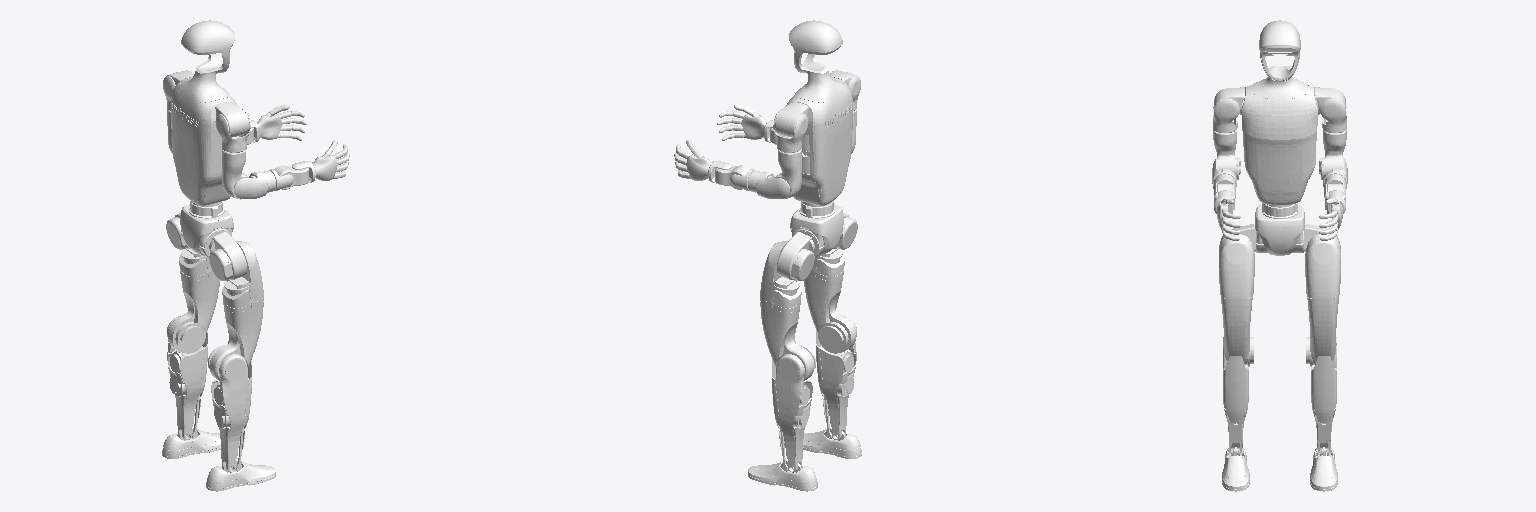
--- Facts derived from the render (not from the file) ---
Views: 3 orthographic renders of the robot side by side, from view 1: azimuth 30°, elevation 25°; view 2: azimuth 150°, elevation 25°; view 3: azimuth 270°, elevation 25°.
Model converted_robot with 61 links and 60 joints (29 revolute, 31 fixed), rooted at world, posed all joints at 0.
Links seen in each view (by area): view 1: torso_link, right_knee_link, left_knee_link, left_hip_yaw_link, right_hip_yaw_link, pelvis, right_hip_roll_link, right_hip_pitch_link, right_ankle_roll_link, left_wrist_yaw_link, right_wrist_yaw_link, left_ankle_roll_link (+5 smaller); view 2: torso_link, left_knee_link, right_knee_link, right_hip_yaw_link, left_hip_yaw_link, pelvis, left_hip_roll_link, left_hip_pitch_link, left_ankle_roll_link, right_wrist_yaw_link, left_wrist_yaw_link, right_ankle_roll_link (+5 smaller); view 3: torso_link, pelvis, left_hip_roll_link, right_hip_roll_link, left_knee_link, right_knee_link, left_hip_yaw_link, right_hip_yaw_link, left_ankle_roll_link, right_ankle_roll_link, left_shoulder_yaw_link, right_shoulder_yaw_link (+4 smaller).
Boxes of the visible links, box(x1,y1,x2,y2) form: torso_link: box(171, 20, 237, 205); right_knee_link: box(211, 354, 251, 472); left_knee_link: box(167, 316, 207, 439); left_hip_yaw_link: box(168, 270, 219, 353); right_hip_yaw_link: box(208, 297, 263, 380); pelvis: box(180, 201, 233, 257); right_hip_roll_link: box(222, 241, 263, 308); right_hip_pitch_link: box(209, 232, 246, 280); right_ankle_roll_link: box(206, 461, 275, 491); left_wrist_yaw_link: box(250, 105, 306, 142); right_wrist_yaw_link: box(292, 140, 349, 183); left_ankle_roll_link: box(162, 428, 220, 458); torso_link: box(786, 20, 852, 205); left_knee_link: box(772, 354, 812, 472); right_knee_link: box(816, 316, 856, 439); right_hip_yaw_link: box(804, 270, 855, 353); left_hip_yaw_link: box(760, 297, 815, 380); pelvis: box(790, 201, 843, 257); left_hip_roll_link: box(760, 241, 801, 308); left_hip_pitch_link: box(777, 232, 814, 280); left_ankle_roll_link: box(748, 461, 817, 491); right_wrist_yaw_link: box(717, 105, 773, 142); left_wrist_yaw_link: box(674, 140, 731, 183); right_ankle_roll_link: box(803, 428, 861, 458); torso_link: box(1240, 20, 1319, 204); pelvis: box(1255, 203, 1304, 255); left_hip_roll_link: box(1305, 234, 1340, 298); right_hip_roll_link: box(1219, 234, 1254, 298); left_knee_link: box(1311, 337, 1336, 456); right_knee_link: box(1223, 337, 1248, 456); left_hip_yaw_link: box(1306, 297, 1338, 366); right_hip_yaw_link: box(1221, 297, 1253, 366); left_ankle_roll_link: box(1310, 448, 1337, 491); right_ankle_roll_link: box(1222, 448, 1249, 491); left_shoulder_yaw_link: box(1319, 130, 1346, 179); right_shoulder_yaw_link: box(1213, 130, 1240, 179).
Bounding box of the posed robot: 0.4457 × 0.3631 × 1.32 m (x, y, z).
61 mesh visuals loaded from 36 distinct referenced files (36 binary STL).

URDF robot description (converted_robot):
<?xml version="1.0" ?>
<robot name="converted_robot">
   <!--generated with mjcf_urdf_simple_converter (https://github.com/Yasu31/mjcf_urdf_simple_converter)-->
   <link name="world">
      <inertial>
         <origin xyz="0.0 0.0 0.0" rpy="0.0 0.0 0.0"/>
         <mass value="0.0"/>
         <inertia ixx="0.0" iyy="0.0" izz="0.0" ixy="0" ixz="0" iyz="0"/>
      </inertial>
   </link>
   <link name="pelvis">
      <inertial>
         <origin xyz="0.0 0.0 -0.07605" rpy="0.0 -0.0007982959576051663 0.0"/>
         <mass value="3.813"/>
         <inertia ixx="0.010549" iyy="0.0093089" izz="0.0079184" ixy="0" ixz="0" iyz="0"/>
      </inertial>
      <visual name="pelvis">
         <origin xyz="-1.9529809540945105e-07 -9.171826830955297e-07 -0.07637656182566167" rpy="0.00015990361525077814 -1.3952456967558646e-09 8.72554274986241e-06"/>
         <geometry>
            <mesh filename="converted_pelvis.stl"/>
         </geometry>
         <material name="white"/>
      </visual>
      <visual name="pelvis_contour_link">
         <origin xyz="0.0006870395627471365 2.401819341082137e-05 -0.07859361570716923" rpy="1.5471959140405038 0.0016128668451760308 1.5713580804039602"/>
         <geometry>
            <mesh filename="converted_pelvis_contour_link.stl"/>
         </geometry>
         <material name="white"/>
      </visual>
      <visual name="pelvis_contour_link">
         <origin xyz="0.0006870395627471365 2.401819341082137e-05 -0.07859361570716923" rpy="1.5471959140405038 0.0016128668451760308 1.5713580804039602"/>
         <geometry>
            <mesh filename="converted_pelvis_contour_link.stl"/>
         </geometry>
         <material name="white"/>
      </visual>
   </link>
   <link name="floating_base_joint_jointbody">
      <inertial>
         <origin xyz="0.0 0.0 0.0" rpy="0.0 0.0 0.0"/>
         <mass value="0.001"/>
         <inertia ixx="1e-09" iyy="1e-09" izz="1e-09" ixy="0" ixz="0" iyz="0"/>
      </inertial>
   </link>
   <joint type="fixed" name="floating_base_joint">
      <parent link="world"/>
      <child link="floating_base_joint_jointbody"/>
      <origin xyz="0.0 0.0 0.793" rpy="0.0 0.0 0.0"/>
   </joint>
   <joint type="fixed" name="floating_base_joint_offset">
      <parent link="floating_base_joint_jointbody"/>
      <child link="pelvis"/>
      <origin xyz="-0.0 -0.0 -0.0" rpy="0.0 0.0 0.0"/>
   </joint>
   <link name="left_hip_pitch_link">
      <inertial>
         <origin xyz="0.002741 0.047791 -0.02606" rpy="0.5988174572601404 0.040081048741047454 0.07544498172237224"/>
         <mass value="1.35"/>
         <inertia ixx="0.00181517" iyy="0.00153422" izz="0.00116212" ixy="0" ixz="0" iyz="0"/>
      </inertial>
      <visual name="left_hip_pitch_link">
         <origin xyz="-0.0008665585378783539 0.04711095469219488 -0.02629613521299048" rpy="0.6379983986511478 -0.1264411694845986 0.09532492244952906"/>
         <geometry>
            <mesh filename="converted_left_hip_pitch_link.stl"/>
         </geometry>
         <material name="white"/>
      </visual>
      <visual name="left_hip_pitch_link">
         <origin xyz="-0.0008665585378783539 0.04711095469219488 -0.02629613521299048" rpy="0.6379983986511478 -0.1264411694845986 0.09532492244952906"/>
         <geometry>
            <mesh filename="converted_left_hip_pitch_link.stl"/>
         </geometry>
         <material name="white"/>
      </visual>
   </link>
   <link name="left_hip_pitch_joint_jointbody">
      <inertial>
         <origin xyz="0.0 0.0 0.0" rpy="0.0 0.0 0.0"/>
         <mass value="0.001"/>
         <inertia ixx="1e-09" iyy="1e-09" izz="1e-09" ixy="0" ixz="0" iyz="0"/>
      </inertial>
   </link>
   <joint type="revolute" name="left_hip_pitch_joint">
      <parent link="pelvis"/>
      <child link="left_hip_pitch_joint_jointbody"/>
      <origin xyz="0.0 0.064452 -0.1027" rpy="0.0 0.0 0.0"/>
      <axis xyz="0.0 1.0 0.0"/>
      <limit lower="-2.5307" upper="2.8798" effort="100" velocity="100"/>
   </joint>
   <joint type="fixed" name="left_hip_pitch_joint_offset">
      <parent link="left_hip_pitch_joint_jointbody"/>
      <child link="left_hip_pitch_link"/>
      <origin xyz="-0.0 -0.0 -0.0" rpy="0.0 0.0 0.0"/>
   </joint>
   <link name="left_hip_roll_link">
      <inertial>
         <origin xyz="0.029812 -0.001045 -0.087934" rpy="-0.018174938093325495 0.413728392569112 -0.08635897759109293"/>
         <mass value="1.52"/>
         <inertia ixx="0.00254986" iyy="0.00241169" izz="0.00148755" ixy="0" ixz="0" iyz="0"/>
      </inertial>
      <visual name="left_hip_roll_link">
         <origin xyz="0.03567396132978256 -0.00036361950676388214 -0.06771372727135536" rpy="-0.010588636566934557 0.35304791455611695 -0.01581117623964661"/>
         <geometry>
            <mesh filename="converted_left_hip_roll_link.stl"/>
         </geometry>
         <material name="white"/>
      </visual>
      <visual name="left_hip_roll_link">
         <origin xyz="0.03567396132978256 -0.00036361950676388214 -0.06771372727135536" rpy="-0.010588636566934557 0.35304791455611695 -0.01581117623964661"/>
         <geometry>
            <mesh filename="converted_left_hip_roll_link.stl"/>
         </geometry>
         <material name="white"/>
      </visual>
   </link>
   <link name="left_hip_roll_joint_jointbody">
      <inertial>
         <origin xyz="0.0 0.0 0.0" rpy="0.0 0.0 0.0"/>
         <mass value="0.001"/>
         <inertia ixx="1e-09" iyy="1e-09" izz="1e-09" ixy="0" ixz="0" iyz="0"/>
      </inertial>
   </link>
   <joint type="revolute" name="left_hip_roll_joint">
      <parent link="left_hip_pitch_link"/>
      <child link="left_hip_roll_joint_jointbody"/>
      <origin xyz="0.0 0.052 -0.030465" rpy="0.0 -0.17489998429394227 0.0"/>
      <axis xyz="1.0 0.0 0.0"/>
      <limit lower="-0.5236" upper="2.9671" effort="100" velocity="100"/>
   </joint>
   <joint type="fixed" name="left_hip_roll_joint_offset">
      <parent link="left_hip_roll_joint_jointbody"/>
      <child link="left_hip_roll_link"/>
      <origin xyz="-0.0 -0.0 -0.0" rpy="0.0 0.0 0.0"/>
   </joint>
   <link name="left_hip_yaw_link">
      <inertial>
         <origin xyz="-0.057709 -0.010981 -0.15078" rpy="0.5540907790916816 0.0305964976672084 1.8013748980475472"/>
         <mass value="1.702"/>
         <inertia ixx="0.00776166" iyy="0.00717575" izz="0.00160139" ixy="0" ixz="0" iyz="0"/>
      </inertial>
      <visual name="left_hip_yaw_link">
         <origin xyz="-0.030698236099282915 -0.0031575123714920315 -0.09263915858615535" rpy="0.4652267475865616 0.01573260394194187 1.632172512777883"/>
         <geometry>
            <mesh filename="converted_left_hip_yaw_link.stl"/>
         </geometry>
         <material name="white"/>
      </visual>
      <visual name="left_hip_yaw_link">
         <origin xyz="-0.030698236099282915 -0.0031575123714920315 -0.09263915858615535" rpy="0.4652267475865616 0.01573260394194187 1.632172512777883"/>
         <geometry>
            <mesh filename="converted_left_hip_yaw_link.stl"/>
         </geometry>
         <material name="white"/>
      </visual>
   </link>
   <link name="left_hip_yaw_joint_jointbody">
      <inertial>
         <origin xyz="0.0 0.0 0.0" rpy="0.0 0.0 0.0"/>
         <mass value="0.001"/>
         <inertia ixx="1e-09" iyy="1e-09" izz="1e-09" ixy="0" ixz="0" iyz="0"/>
      </inertial>
   </link>
   <joint type="revolute" name="left_hip_yaw_joint">
      <parent link="left_hip_roll_link"/>
      <child link="left_hip_yaw_joint_jointbody"/>
      <origin xyz="0.025001 0.0 -0.12412" rpy="0.0 0.0 0.0"/>
      <axis xyz="0.0 0.0 1.0"/>
      <limit lower="-2.7576" upper="2.7576" effort="100" velocity="100"/>
   </joint>
   <joint type="fixed" name="left_hip_yaw_joint_offset">
      <parent link="left_hip_yaw_joint_jointbody"/>
      <child link="left_hip_yaw_link"/>
      <origin xyz="-0.0 -0.0 -0.0" rpy="0.0 0.0 0.0"/>
   </joint>
   <link name="left_knee_link">
      <inertial>
         <origin xyz="0.005457 0.003964 -0.12074" rpy="-0.048519000764823184 0.054292689691372686 0.7832941703975453"/>
         <mass value="1.932"/>
         <inertia ixx="0.0113804" iyy="0.0112778" izz="0.00146458" ixy="0" ixz="0" iyz="0"/>
      </inertial>
      <visual name="left_knee_link">
         <origin xyz="0.01229041176367447 0.0027294407845290226 -0.12275210014016037" rpy="0.017322281158521413 0.0626182591539548 1.4189256886202024"/>
         <geometry>
            <mesh filename="converted_left_knee_link.stl"/>
         </geometry>
         <material name="white"/>
      </visual>
      <visual name="left_knee_link">
         <origin xyz="0.01229041176367447 0.0027294407845290226 -0.12275210014016037" rpy="0.017322281158521413 0.0626182591539548 1.4189256886202024"/>
         <geometry>
            <mesh filename="converted_left_knee_link.stl"/>
         </geometry>
         <material name="white"/>
      </visual>
   </link>
   <link name="left_knee_joint_jointbody">
      <inertial>
         <origin xyz="0.0 0.0 0.0" rpy="0.0 0.0 0.0"/>
         <mass value="0.001"/>
         <inertia ixx="1e-09" iyy="1e-09" izz="1e-09" ixy="0" ixz="0" iyz="0"/>
      </inertial>
   </link>
   <joint type="revolute" name="left_knee_joint">
      <parent link="left_hip_yaw_link"/>
      <child link="left_knee_joint_jointbody"/>
      <origin xyz="-0.078273 0.0021489 -0.17734" rpy="0.0 0.1748999842939425 0.0"/>
      <axis xyz="0.0 1.0 0.0"/>
      <limit lower="-0.087267" upper="2.8798" effort="100" velocity="100"/>
   </joint>
   <joint type="fixed" name="left_knee_joint_offset">
      <parent link="left_knee_joint_jointbody"/>
      <child link="left_knee_link"/>
      <origin xyz="-0.0 -0.0 -0.0" rpy="0.0 0.0 0.0"/>
   </joint>
   <link name="left_ankle_pitch_link">
      <inertial>
         <origin xyz="-0.007269 0.0 0.011137" rpy="1.098770384217672 0.0 1.5707963267948966"/>
         <mass value="0.074"/>
         <inertia ixx="1.89e-05" iyy="1.40805e-05" izz="6.9195e-06" ixy="0" ixz="0" iyz="0"/>
      </inertial>
      <visual name="left_ankle_pitch_link">
         <origin xyz="-0.004106198395375143 5.887730678462465e-05 -0.008573513698468344" rpy="0.5889383541831732 0.0 1.5707963267948966"/>
         <geometry>
            <mesh filename="converted_left_ankle_pitch_link.stl"/>
         </geometry>
         <material name="white"/>
      </visual>
      <visual name="left_ankle_pitch_link">
         <origin xyz="-0.004106198395375143 5.887730678462465e-05 -0.008573513698468344" rpy="0.5889383541831732 0.0 1.5707963267948966"/>
         <geometry>
            <mesh filename="converted_left_ankle_pitch_link.stl"/>
         </geometry>
         <material name="white"/>
      </visual>
   </link>
   <link name="left_ankle_pitch_joint_jointbody">
      <inertial>
         <origin xyz="0.0 0.0 0.0" rpy="0.0 0.0 0.0"/>
         <mass value="0.001"/>
         <inertia ixx="1e-09" iyy="1e-09" izz="1e-09" ixy="0" ixz="0" iyz="0"/>
      </inertial>
   </link>
   <joint type="revolute" name="left_ankle_pitch_joint">
      <parent link="left_knee_link"/>
      <child link="left_ankle_pitch_joint_jointbody"/>
      <origin xyz="0.0 -9.4445e-05 -0.30001" rpy="0.0 0.0 0.0"/>
      <axis xyz="0.0 1.0 0.0"/>
      <limit lower="-0.87267" upper="0.5236" effort="100" velocity="100"/>
   </joint>
   <joint type="fixed" name="left_ankle_pitch_joint_offset">
      <parent link="left_ankle_pitch_joint_jointbody"/>
      <child link="left_ankle_pitch_link"/>
      <origin xyz="-0.0 -0.0 -0.0" rpy="0.0 0.0 0.0"/>
   </joint>
   <link name="left_ankle_roll_link">
      <inertial>
         <origin xyz="0.026505 0.0 -0.016425" rpy="-3.1163585547559842 -1.5093660737206502 -0.025429175473726362"/>
         <mass value="0.608"/>
         <inertia ixx="0.00167218" iyy="0.0016161" izz="0.000217621" ixy="0" ixz="0" iyz="0"/>
      </inertial>
      <visual name="left_ankle_roll_link">
         <origin xyz="0.02646435804254272 7.351326310042785e-05 -0.014106210048355583" rpy="-3.119116147437704 -1.489394629219258 -0.02269621966958635"/>
         <geometry>
            <mesh filename="converted_left_ankle_roll_link.stl"/>
         </geometry>
         <material name="white"/>
      </visual>
   </link>
   <link name="left_ankle_roll_joint_jointbody">
      <inertial>
         <origin xyz="0.0 0.0 0.0" rpy="0.0 0.0 0.0"/>
         <mass value="0.001"/>
         <inertia ixx="1e-09" iyy="1e-09" izz="1e-09" ixy="0" ixz="0" iyz="0"/>
      </inertial>
   </link>
   <joint type="revolute" name="left_ankle_roll_joint">
      <parent link="left_ankle_pitch_link"/>
      <child link="left_ankle_roll_joint_jointbody"/>
      <origin xyz="0.0 0.0 -0.017558" rpy="0.0 0.0 0.0"/>
      <axis xyz="1.0 0.0 0.0"/>
      <limit lower="-0.2618" upper="0.2618" effort="100" velocity="100"/>
   </joint>
   <joint type="fixed" name="left_ankle_roll_joint_offset">
      <parent link="left_ankle_roll_joint_jointbody"/>
      <child link="left_ankle_roll_link"/>
      <origin xyz="-0.0 -0.0 -0.0" rpy="0.0 0.0 0.0"/>
   </joint>
   <link name="right_hip_pitch_link">
      <inertial>
         <origin xyz="0.002741 -0.047791 -0.02606" rpy="-0.5988174572601404 0.040081048741047454 -0.07544498172237224"/>
         <mass value="1.35"/>
         <inertia ixx="0.00181517" iyy="0.00153422" izz="0.00116212" ixy="0" ixz="0" iyz="0"/>
      </inertial>
      <visual name="right_hip_pitch_link">
         <origin xyz="-0.0008664703489512744 -0.04711005033357466 -0.026296623163099924" rpy="-0.6380379461504948 -0.1264811670174979 -0.09536771795197246"/>
         <geometry>
            <mesh filename="converted_right_hip_pitch_link.stl"/>
         </geometry>
         <material name="white"/>
      </visual>
      <visual name="right_hip_pitch_link">
         <origin xyz="-0.0008664703489512744 -0.04711005033357466 -0.026296623163099924" rpy="-0.6380379461504948 -0.1264811670174979 -0.09536771795197246"/>
         <geometry>
            <mesh filename="converted_right_hip_pitch_link.stl"/>
         </geometry>
         <material name="white"/>
      </visual>
   </link>
   <link name="right_hip_pitch_joint_jointbody">
      <inertial>
         <origin xyz="0.0 0.0 0.0" rpy="0.0 0.0 0.0"/>
         <mass value="0.001"/>
         <inertia ixx="1e-09" iyy="1e-09" izz="1e-09" ixy="0" ixz="0" iyz="0"/>
      </inertial>
   </link>
   <joint type="revolute" name="right_hip_pitch_joint">
      <parent link="pelvis"/>
      <child link="right_hip_pitch_joint_jointbody"/>
      <origin xyz="0.0 -0.064452 -0.1027" rpy="0.0 0.0 0.0"/>
      <axis xyz="0.0 1.0 0.0"/>
      <limit lower="-2.5307" upper="2.8798" effort="100" velocity="100"/>
   </joint>
   <joint type="fixed" name="right_hip_pitch_joint_offset">
      <parent link="right_hip_pitch_joint_jointbody"/>
      <child link="right_hip_pitch_link"/>
      <origin xyz="-0.0 -0.0 -0.0" rpy="0.0 0.0 0.0"/>
   </joint>
   <link name="right_hip_roll_link">
      <inertial>
         <origin xyz="0.029812 0.001045 -0.087934" rpy="0.018174938093325495 0.413728392569112 0.08635897759109293"/>
         <mass value="1.52"/>
         <inertia ixx="0.00254986" iyy="0.00241169" izz="0.00148755" ixy="0" ixz="0" iyz="0"/>
      </inertial>
      <visual name="right_hip_roll_link">
         <origin xyz="0.03567378883256972 0.0003616971847909951 -0.06771295458931689" rpy="0.01044591660946419 0.35305430937046367 0.015384555950420497"/>
         <geometry>
            <mesh filename="converted_right_hip_roll_link.stl"/>
         </geometry>
         <material name="white"/>
      </visual>
      <visual name="right_hip_roll_link">
         <origin xyz="0.03567378883256972 0.0003616971847909951 -0.06771295458931689" rpy="0.01044591660946419 0.35305430937046367 0.015384555950420497"/>
         <geometry>
            <mesh filename="converted_right_hip_roll_link.stl"/>
         </geometry>
         <material name="white"/>
      </visual>
   </link>
   <link name="right_hip_roll_joint_jointbody">
      <inertial>
         <origin xyz="0.0 0.0 0.0" rpy="0.0 0.0 0.0"/>
         <mass value="0.001"/>
         <inertia ixx="1e-09" iyy="1e-09" izz="1e-09" ixy="0" ixz="0" iyz="0"/>
      </inertial>
   </link>
   <joint type="revolute" name="right_hip_roll_joint">
      <parent link="right_hip_pitch_link"/>
      <child link="right_hip_roll_joint_jointbody"/>
      <origin xyz="0.0 -0.052 -0.030465" rpy="0.0 -0.17489998429394227 0.0"/>
      <axis xyz="1.0 0.0 0.0"/>
      <limit lower="-2.9671" upper="0.5236" effort="100" velocity="100"/>
   </joint>
   <joint type="fixed" name="right_hip_roll_joint_offset">
      <parent link="right_hip_roll_joint_jointbody"/>
      <child link="right_hip_roll_link"/>
      <origin xyz="-0.0 -0.0 -0.0" rpy="0.0 0.0 0.0"/>
   </joint>
   <link name="right_hip_yaw_link">
      <inertial>
         <origin xyz="-0.057709 0.010981 -0.15078" rpy="0.5540907790916816 -0.0305964976672084 1.3402177555422459"/>
         <mass value="1.702"/>
         <inertia ixx="0.00776166" iyy="0.00717575" izz="0.00160139" ixy="0" ixz="0" iyz="0"/>
      </inertial>
      <visual name="right_hip_yaw_link">
         <origin xyz="-0.030699656369028997 0.003158722541324976 -0.09263954567921404" rpy="0.465224825435285 -0.01567645225665637 1.5093289342853118"/>
         <geometry>
            <mesh filename="converted_right_hip_yaw_link.stl"/>
         </geometry>
         <material name="white"/>
      </visual>
      <visual name="right_hip_yaw_link">
         <origin xyz="-0.030699656369028997 0.003158722541324976 -0.09263954567921404" rpy="0.465224825435285 -0.01567645225665637 1.5093289342853118"/>
         <geometry>
            <mesh filename="converted_right_hip_yaw_link.stl"/>
         </geometry>
         <material name="white"/>
      </visual>
   </link>
   <link name="right_hip_yaw_joint_jointbody">
      <inertial>
         <origin xyz="0.0 0.0 0.0" rpy="0.0 0.0 0.0"/>
         <mass value="0.001"/>
         <inertia ixx="1e-09" iyy="1e-09" izz="1e-09" ixy="0" ixz="0" iyz="0"/>
      </inertial>
   </link>
   <joint type="revolute" name="right_hip_yaw_joint">
      <parent link="right_hip_roll_link"/>
      <child link="right_hip_yaw_joint_jointbody"/>
      <origin xyz="0.025001 0.0 -0.12412" rpy="0.0 0.0 0.0"/>
      <axis xyz="0.0 0.0 1.0"/>
      <limit lower="-2.7576" upper="2.7576" effort="100" velocity="100"/>
   </joint>
   <joint type="fixed" name="right_hip_yaw_joint_offset">
      <parent link="right_hip_yaw_joint_jointbody"/>
      <child link="right_hip_yaw_link"/>
      <origin xyz="-0.0 -0.0 -0.0" rpy="0.0 0.0 0.0"/>
   </joint>
   <link name="right_knee_link">
      <inertial>
         <origin xyz="0.005457 -0.003964 -0.12074" rpy="0.05497078739990324 0.047883485238203294 -0.7831774075963955"/>
         <mass value="1.932"/>
         <inertia ixx="0.011374" iyy="0.0112843" izz="0.00146452" ixy="0" ixz="0" iyz="0"/>
      </inertial>
      <visual name="right_knee_link">
         <origin xyz="0.012290840839311904 -0.0027284185571872224 -0.12275462830238623" rpy="0.01731356693980557 -0.06260061038118958 1.722781525449863"/>
         <geometry>
            <mesh filename="converted_right_knee_link.stl"/>
         </geometry>
         <material name="white"/>
      </visual>
      <visual name="right_knee_link">
         <origin xyz="0.012290840839311904 -0.0027284185571872224 -0.12275462830238623" rpy="0.01731356693980557 -0.06260061038118958 1.722781525449863"/>
         <geometry>
            <mesh filename="converted_right_knee_link.stl"/>
         </geometry>
         <material name="white"/>
      </visual>
   </link>
   <link name="right_knee_joint_jointbody">
      <inertial>
         <origin xyz="0.0 0.0 0.0" rpy="0.0 0.0 0.0"/>
         <mass value="0.001"/>
         <inertia ixx="1e-09" iyy="1e-09" izz="1e-09" ixy="0" ixz="0" iyz="0"/>
      </inertial>
   </link>
   <joint type="revolute" name="right_knee_joint">
      <parent link="right_hip_yaw_link"/>
      <child link="right_knee_joint_jointbody"/>
      <origin xyz="-0.078273 -0.0021489 -0.17734" rpy="0.0 0.1748999842939425 0.0"/>
      <axis xyz="0.0 1.0 0.0"/>
      <limit lower="-0.087267" upper="2.8798" effort="100" velocity="100"/>
   </joint>
   <joint type="fixed" name="right_knee_joint_offset">
      <parent link="right_knee_joint_jointbody"/>
      <child link="right_knee_link"/>
      <origin xyz="-0.0 -0.0 -0.0" rpy="0.0 0.0 0.0"/>
   </joint>
   <link name="right_ankle_pitch_link">
      <inertial>
         <origin xyz="-0.007269 0.0 0.011137" rpy="1.098770384217672 0.0 1.5707963267948966"/>
         <mass value="0.074"/>
         <inertia ixx="1.89e-05" iyy="1.40805e-05" izz="6.9195e-06" ixy="0" ixz="0" iyz="0"/>
      </inertial>
      <visual name="right_ankle_pitch_link">
         <origin xyz="-0.0041065949955294695 -5.9077733540970835e-05 -0.00857303102905033" rpy="0.5888330459747148 0.0 1.5707963267948966"/>
         <geometry>
            <mesh filename="converted_right_ankle_pitch_link.stl"/>
         </geometry>
         <material name="white"/>
      </visual>
      <visual name="right_ankle_pitch_link">
         <origin xyz="-0.0041065949955294695 -5.9077733540970835e-05 -0.00857303102905033" rpy="0.5888330459747148 0.0 1.5707963267948966"/>
         <geometry>
            <mesh filename="converted_right_ankle_pitch_link.stl"/>
         </geometry>
         <material name="white"/>
      </visual>
   </link>
   <link name="right_ankle_pitch_joint_jointbody">
      <inertial>
         <origin xyz="0.0 0.0 0.0" rpy="0.0 0.0 0.0"/>
         <mass value="0.001"/>
         <inertia ixx="1e-09" iyy="1e-09" izz="1e-09" ixy="0" ixz="0" iyz="0"/>
      </inertial>
   </link>
   <joint type="revolute" name="right_ankle_pitch_joint">
      <parent link="right_knee_link"/>
      <child link="right_ankle_pitch_joint_jointbody"/>
      <origin xyz="0.0 9.4445e-05 -0.30001" rpy="0.0 0.0 0.0"/>
      <axis xyz="0.0 1.0 0.0"/>
      <limit lower="-0.87267" upper="0.5236" effort="100" velocity="100"/>
   </joint>
   <joint type="fixed" name="right_ankle_pitch_joint_offset">
      <parent link="right_ankle_pitch_joint_jointbody"/>
      <child link="right_ankle_pitch_link"/>
      <origin xyz="-0.0 -0.0 -0.0" rpy="0.0 0.0 0.0"/>
   </joint>
   <link name="right_ankle_roll_link">
      <inertial>
         <origin xyz="0.026505 0.0 -0.016425" rpy="3.1163585547559842 -1.5093660737206502 0.025429175473726362"/>
         <mass value="0.608"/>
         <inertia ixx="0.00167218" iyy="0.0016161" izz="0.000217621" ixy="0" ixz="0" iyz="0"/>
      </inertial>
      <visual name="right_ankle_roll_link">
         <origin xyz="0.026469481697172777 -7.266444317600382e-05 -0.014106435744604889" rpy="3.1197956347207203 -1.4893919119936694 0.02204653443684479"/>
         <geometry>
            <mesh filename="converted_right_ankle_roll_link.stl"/>
         </geometry>
         <material name="white"/>
      </visual>
   </link>
   <link name="right_ankle_roll_joint_jointbody">
      <inertial>
         <origin xyz="0.0 0.0 0.0" rpy="0.0 0.0 0.0"/>
         <mass value="0.001"/>
         <inertia ixx="1e-09" iyy="1e-09" izz="1e-09" ixy="0" ixz="0" iyz="0"/>
      </inertial>
   </link>
   <joint type="revolute" name="right_ankle_roll_joint">
      <parent link="right_ankle_pitch_link"/>
      <child link="right_ankle_roll_joint_jointbody"/>
      <origin xyz="0.0 0.0 -0.017558" rpy="0.0 0.0 0.0"/>
      <axis xyz="1.0 0.0 0.0"/>
      <limit lower="-0.2618" upper="0.2618" effort="100" velocity="100"/>
   </joint>
   <joint type="fixed" name="right_ankle_roll_joint_offset">
      <parent link="right_ankle_roll_joint_jointbody"/>
      <child link="right_ankle_roll_link"/>
      <origin xyz="-0.0 -0.0 -0.0" rpy="0.0 0.0 0.0"/>
   </joint>
   <link name="waist_yaw_link">
      <inertial>
         <origin xyz="0.003964 0.0 0.018769" rpy="0.1027354623934773 -1.3596559581431018 3.1043953214876154"/>
         <mass value="0.244"/>
         <inertia ixx="0.000158561" iyy="0.000124229" izz="9.67669e-05" ixy="0" ixz="0" iyz="0"/>
      </inertial>
      <visual name="waist_yaw_link">
         <origin xyz="0.004643086659573277 3.9417883471413433e-07 0.017921369690912063" rpy="8.625346510360288e-06 -1.3987764839882448 -3.141395581204842"/>
         <geometry>
            <mesh filename="converted_waist_yaw_link.stl"/>
         </geometry>
         <material name="white"/>
      </visual>
   </link>
   <link name="waist_yaw_joint_jointbody">
      <inertial>
         <origin xyz="0.0 0.0 0.0" rpy="0.0 0.0 0.0"/>
         <mass value="0.001"/>
         <inertia ixx="1e-09" iyy="1e-09" izz="1e-09" ixy="0" ixz="0" iyz="0"/>
      </inertial>
   </link>
   <joint type="revolute" name="waist_yaw_joint">
      <parent link="pelvis"/>
      <child link="waist_yaw_joint_jointbody"/>
      <origin xyz="0.0 0.0 0.0" rpy="0.0 0.0 0.0"/>
      <axis xyz="0.0 0.0 1.0"/>
      <limit lower="-2.618" upper="2.618" effort="100" velocity="100"/>
   </joint>
   <joint type="fixed" name="waist_yaw_joint_offset">
      <parent link="waist_yaw_joint_jointbody"/>
      <child link="waist_yaw_link"/>
      <origin xyz="-0.0 -0.0 -0.0" rpy="0.0 0.0 0.0"/>
   </joint>
   <link name="waist_roll_link">
      <inertial>
         <origin xyz="0.0 -0.000236 0.010111" rpy="0.04098686958331075 0.0 0.0"/>
         <mass value="0.047"/>
         <inertia ixx="7.515e-06" iyy="6.40206e-06" izz="3.98394e-06" ixy="0" ixz="0" iyz="0"/>
      </inertial>
      <visual name="waist_roll_link">
         <origin xyz="-4.478938102644661e-07 -5.375318902658795e-07 0.0075003359781740985" rpy="0.0 0.0 0.0"/>
         <geometry>
            <mesh filename="converted_waist_roll_link.stl"/>
         </geometry>
         <material name="white"/>
      </visual>
   </link>
   <link name="waist_roll_joint_jointbody">
      <inertial>
         <origin xyz="0.0 0.0 0.0" rpy="0.0 0.0 0.0"/>
         <mass value="0.001"/>
         <inertia ixx="1e-09" iyy="1e-09" izz="1e-09" ixy="0" ixz="0" iyz="0"/>
      </inertial>
   </link>
   <joint type="revolute" name="waist_roll_joint">
      <parent link="waist_yaw_link"/>
      <child link="waist_roll_joint_jointbody"/>
      <origin xyz="-0.0039635 0.0 0.035" rpy="0.0 0.0 0.0"/>
      <axis xyz="1.0 0.0 0.0"/>
      <limit lower="-0.52" upper="0.52" effort="100" velocity="100"/>
   </joint>
   <joint type="fixed" name="waist_roll_joint_offset">
      <parent link="waist_roll_joint_jointbody"/>
      <child link="waist_roll_link"/>
      <origin xyz="-0.0 -0.0 -0.0" rpy="0.0 0.0 0.0"/>
   </joint>
   <link name="torso_link">
      <inertial>
         <origin xyz="0.00331658 0.000261533 0.179856" rpy="0.0006167859925641735 0.035983524154997504 -0.007544222650426457"/>
         <mass value="9.598"/>
         <inertia ixx="0.12407" iyy="0.111951" izz="0.0325382" ixy="0" ixz="0" iyz="0"/>
      </inertial>
      <visual name="torso_link">
         <origin xyz="0.004883773990760545 0.002122432415161523 0.13780783433329688" rpy="0.004107860169586809 0.008940554633317 0.004279752321659944"/>
         <geometry>
            <mesh filename="converted_torso_link.stl"/>
         </geometry>
         <material name="white"/>
      </visual>
      <visual name="torso_link">
         <origin xyz="0.004883773990760545 0.002122432415161523 0.13780783433329688" rpy="0.004107860169586809 0.008940554633317 0.004279752321659944"/>
         <geometry>
            <mesh filename="converted_torso_link.stl"/>
         </geometry>
         <material name="white"/>
      </visual>
      <visual name="logo_link">
         <origin xyz="0.0030190916936811904 0.0011127782956188072 0.21746039917874727" rpy="3.030856524612828 -1.566921699321284 0.041169313305835065"/>
         <geometry>
            <mesh filename="converted_logo_link.stl"/>
         </geometry>
         <material name="white"/>
      </visual>
      <visual name="logo_link">
         <origin xyz="0.0030190916936811904 0.0011127782956188072 0.21746039917874727" rpy="3.030856524612828 -1.566921699321284 0.041169313305835065"/>
         <geometry>
            <mesh filename="converted_logo_link.stl"/>
         </geometry>
         <material name="white"/>
      </visual>
      <visual name="head_link">
         <origin xyz="0.007650942311808313 2.4814250502793286e-05 0.3751317963124549" rpy="2.916442025267819e-05 0.04559163418327694 0.00010977219856073105"/>
         <geometry>
            <mesh filename="converted_head_link.stl"/>
         </geometry>
         <material name="white"/>
      </visual>
      <visual name="head_link">
         <origin xyz="0.007650942311808313 2.4814250502793286e-05 0.3751317963124549" rpy="2.916442025267819e-05 0.04559163418327694 0.00010977219856073105"/>
         <geometry>
            <mesh filename="converted_head_link.stl"/>
         </geometry>
         <material name="white"/>
      </visual>
      <visual name="waist_support_link">
         <origin xyz="0.003226570964462729 8.064506001391946e-05 -0.02242432014032736" rpy="-1.6369288934604698 -1.5697770264885236 -3.076962490639492"/>
         <geometry>
            <mesh filename="converted_waist_support_link.stl"/>
         </geometry>
         <material name="white"/>
      </visual>
      <visual name="waist_support_link">
         <origin xyz="0.003226570964462729 8.064506001391946e-05 -0.02242432014032736" rpy="-1.6369288934604698 -1.5697770264885236 -3.076962490639492"/>
         <geometry>
            <mesh filename="converted_waist_support_link.stl"/>
         </geometry>
         <material name="white"/>
      </visual>
   </link>
   <link name="waist_pitch_joint_jointbody">
      <inertial>
         <origin xyz="0.0 0.0 0.0" rpy="0.0 0.0 0.0"/>
         <mass value="0.001"/>
         <inertia ixx="1e-09" iyy="1e-09" izz="1e-09" ixy="0" ixz="0" iyz="0"/>
      </inertial>
   </link>
   <joint type="revolute" name="waist_pitch_joint">
      <parent link="waist_roll_link"/>
      <child link="waist_pitch_joint_jointbody"/>
      <origin xyz="0.0 0.0 0.019" rpy="0.0 0.0 0.0"/>
      <axis xyz="0.0 1.0 0.0"/>
      <limit lower="-0.52" upper="0.52" effort="100" velocity="100"/>
   </joint>
   <joint type="fixed" name="waist_pitch_joint_offset">
      <parent link="waist_pitch_joint_jointbody"/>
      <child link="torso_link"/>
      <origin xyz="-0.0 -0.0 -0.0" rpy="0.0 0.0 0.0"/>
   </joint>
   <link name="left_shoulder_pitch_link">
      <inertial>
         <origin xyz="0.0 0.035892 -0.011628" rpy="-0.49834883517368966 -0.46079162371774673 1.732072902331688"/>
         <mass value="0.718"/>
         <inertia ixx="0.000465864" iyy="0.000432842" izz="0.000406394" ixy="0" ixz="0" iyz="0"/>
      </inertial>
      <visual name="left_shoulder_pitch_link">
         <origin xyz="-2.524160950152245e-05 0.03454218177570185 -0.008909194000553549" rpy="0.02893606614591482 -0.5899336882005926 1.504020067492158"/>
         <geometry>
            <mesh filename="converted_left_shoulder_pitch_link.stl"/>
         </geometry>
         <material name="white"/>
      </visual>
   </link>
   <link name="left_shoulder_pitch_joint_jointbody">
      <inertial>
         <origin xyz="0.0 0.0 0.0" rpy="0.0 0.0 0.0"/>
         <mass value="0.001"/>
         <inertia ixx="1e-09" iyy="1e-09" izz="1e-09" ixy="0" ixz="0" iyz="0"/>
      </inertial>
   </link>
   <joint type="revolute" name="left_shoulder_pitch_joint">
      <parent link="torso_link"/>
      <child link="left_shoulder_pitch_joint_jointbody"/>
      <origin xyz="0.0039563 0.10022 0.23778" rpy="0.2793090626390551 5.4948898537077184e-05 -0.00019158997789023302"/>
      <axis xyz="0.0 1.0 0.0"/>
      <limit lower="-3.0892" upper="2.6704" effort="100" velocity="100"/>
   </joint>
   <joint type="fixed" name="left_shoulder_pitch_joint_offset">
      <parent link="left_shoulder_pitch_joint_jointbody"/>
      <child link="left_shoulder_pitch_link"/>
      <origin xyz="-0.0 -0.0 -0.0" rpy="0.0 0.0 0.0"/>
   </joint>
   <link name="left_shoulder_roll_link">
      <inertial>
         <origin xyz="-0.000227 0.00727 -0.063243" rpy="-0.03765901158544349 0.018004551792828227 1.5865094247978933"/>
         <mass value="0.643"/>
         <inertia ixx="0.000691311" iyy="0.000618011" izz="0.000388977" ixy="0" ixz="0" iyz="0"/>
      </inertial>
      <visual name="left_shoulder_roll_link">
         <origin xyz="3.078866230346007e-05 0.007747256915819465 -0.03750622953852636" rpy="0.0034739091753315243 -0.0794133828154262 1.5701498870966804"/>
         <geometry>
            <mesh filename="converted_left_shoulder_roll_link.stl"/>
         </geometry>
         <material name="white"/>
      </visual>
   </link>
   <link name="left_shoulder_roll_joint_jointbody">
      <inertial>
         <origin xyz="0.0 0.0 0.0" rpy="0.0 0.0 0.0"/>
         <mass value="0.001"/>
         <inertia ixx="1e-09" iyy="1e-09" izz="1e-09" ixy="0" ixz="0" iyz="0"/>
      </inertial>
   </link>
   <joint type="revolute" name="left_shoulder_roll_joint">
      <parent link="left_shoulder_pitch_link"/>
      <child link="left_shoulder_roll_joint_jointbody"/>
      <origin xyz="0.0 0.038 -0.013831" rpy="-0.2792505189613739 0.0 0.0"/>
      <axis xyz="1.0 0.0 0.0"/>
      <limit lower="-1.5882" upper="2.2515" effort="100" velocity="100"/>
   </joint>
   <joint type="fixed" name="left_shoulder_roll_joint_offset">
      <parent link="left_shoulder_roll_joint_jointbody"/>
      <child link="left_shoulder_roll_link"/>
      <origin xyz="-0.0 -0.0 -0.0" rpy="0.0 0.0 0.0"/>
   </joint>
   <link name="left_shoulder_yaw_link">
      <inertial>
         <origin xyz="0.010773 -0.002949 -0.072009" rpy="-0.2340491396282709 0.03511332089790531 1.5243028610703762"/>
         <mass value="0.734"/>
         <inertia ixx="0.00106187" iyy="0.00103217" izz="0.000400661" ixy="0" ixz="0" iyz="0"/>
      </inertial>
      <visual name="left_shoulder_yaw_link">
         <origin xyz="0.008049665594003904 -0.00420180564637434 -0.048209927243695244" rpy="-0.23785394371832946 0.13198198726331967 1.6702463147886015"/>
         <geometry>
            <mesh filename="converted_left_shoulder_yaw_link.stl"/>
         </geometry>
         <material name="white"/>
      </visual>
      <visual name="left_shoulder_yaw_link">
         <origin xyz="0.008049665594003904 -0.00420180564637434 -0.048209927243695244" rpy="-0.23785394371832946 0.13198198726331967 1.6702463147886015"/>
         <geometry>
            <mesh filename="converted_left_shoulder_yaw_link.stl"/>
         </geometry>
         <material name="white"/>
      </visual>
   </link>
   <link name="left_shoulder_yaw_joint_jointbody">
      <inertial>
         <origin xyz="0.0 0.0 0.0" rpy="0.0 0.0 0.0"/>
         <mass value="0.001"/>
         <inertia ixx="1e-09" iyy="1e-09" izz="1e-09" ixy="0" ixz="0" iyz="0"/>
      </inertial>
   </link>
   <joint type="revolute" name="left_shoulder_yaw_joint">
      <parent link="left_shoulder_roll_link"/>
      <child link="left_shoulder_yaw_joint_jointbody"/>
      <origin xyz="0.0 0.00624 -0.1032" rpy="0.0 0.0 0.0"/>
      <axis xyz="0.0 0.0 1.0"/>
      <limit lower="-2.618" upper="2.618" effort="100" velocity="100"/>
   </joint>
   <joint type="fixed" name="left_shoulder_yaw_joint_offset">
      <parent link="left_shoulder_yaw_joint_jointbody"/>
      <child link="left_shoulder_yaw_link"/>
      <origin xyz="-0.0 -0.0 -0.0" rpy="0.0 0.0 0.0"/>
   </joint>
   <link name="left_elbow_link">
      <inertial>
         <origin xyz="0.064956 0.004454 -0.010062" rpy="1.6830188159730721 -0.07256707188746447 1.1621215745061526"/>
         <mass value="0.6"/>
         <inertia ixx="0.000443035" iyy="0.000421612" izz="0.000259353" ixy="0" ixz="0" iyz="0"/>
      </inertial>
      <visual name="left_elbow_link">
         <origin xyz="0.053574244613676256 0.008583805643290808 -0.008537761350154273" rpy="1.6847179506028167 -0.05821775620593406 1.2367484910384527"/>
         <geometry>
            <mesh filename="converted_left_elbow_link.stl"/>
         </geometry>
         <material name="white"/>
      </visual>
      <visual name="left_elbow_link">
         <origin xyz="0.053574244613676256 0.008583805643290808 -0.008537761350154273" rpy="1.6847179506028167 -0.05821775620593406 1.2367484910384527"/>
         <geometry>
            <mesh filename="converted_left_elbow_link.stl"/>
         </geometry>
         <material name="white"/>
      </visual>
   </link>
   <link name="left_elbow_joint_jointbody">
      <inertial>
         <origin xyz="0.0 0.0 0.0" rpy="0.0 0.0 0.0"/>
         <mass value="0.001"/>
         <inertia ixx="1e-09" iyy="1e-09" izz="1e-09" ixy="0" ixz="0" iyz="0"/>
      </inertial>
   </link>
   <joint type="revolute" name="left_elbow_joint">
      <parent link="left_shoulder_yaw_link"/>
      <child link="left_elbow_joint_jointbody"/>
      <origin xyz="0.015783 0.0 -0.080518" rpy="0.0 0.0 0.0"/>
      <axis xyz="0.0 1.0 0.0"/>
      <limit lower="-1.0472" upper="2.0944" effort="100" velocity="100"/>
   </joint>
   <joint type="fixed" name="left_elbow_joint_offset">
      <parent link="left_elbow_joint_jointbody"/>
      <child link="left_elbow_link"/>
      <origin xyz="-0.0 -0.0 -0.0" rpy="0.0 0.0 0.0"/>
   </joint>
   <link name="left_wrist_roll_link">
      <inertial>
         <origin xyz="0.0171394 0.000537591 4.8864e-07" rpy="1.5457027398981822 -1.5697814832562638 -0.30387098421845293"/>
         <mass value="0.085445"/>
         <inertia ixx="5.48211e-05" iyy="4.96646e-05" izz="3.57798e-05" ixy="0" ixz="0" iyz="0"/>
      </inertial>
      <visual name="left_wrist_roll_link">
         <origin xyz="0.018657984394854582 5.9793423268075494e-06 -1.5958652824487767e-07" rpy="1.8145436634277998 -1.570603686945106 -0.2762879138730202"/>
         <geometry>
            <mesh filename="converted_left_wrist_roll_link.stl"/>
         </geometry>
         <material name="white"/>
      </visual>
      <visual name="left_wrist_roll_link">
         <origin xyz="0.018657984394854582 5.9793423268075494e-06 -1.5958652824487767e-07" rpy="1.8145436634277998 -1.570603686945106 -0.2762879138730202"/>
         <geometry>
            <mesh filename="converted_left_wrist_roll_link.stl"/>
         </geometry>
         <material name="white"/>
      </visual>
   </link>
   <link name="left_wrist_roll_joint_jointbody">
      <inertial>
         <origin xyz="0.0 0.0 0.0" rpy="0.0 0.0 0.0"/>
         <mass value="0.001"/>
         <inertia ixx="1e-09" iyy="1e-09" izz="1e-09" ixy="0" ixz="0" iyz="0"/>
      </inertial>
   </link>
   <joint type="revolute" name="left_wrist_roll_joint">
      <parent link="left_elbow_link"/>
      <child link="left_wrist_roll_joint_jointbody"/>
      <origin xyz="0.1 0.00188791 -0.01" rpy="0.0 0.0 0.0"/>
      <axis xyz="1.0 0.0 0.0"/>
      <limit lower="-1.97222" upper="1.97222" effort="100" velocity="100"/>
   </joint>
   <joint type="fixed" name="left_wrist_roll_joint_offset">
      <parent link="left_wrist_roll_joint_jointbody"/>
      <child link="left_wrist_roll_link"/>
      <origin xyz="-0.0 -0.0 -0.0" rpy="0.0 0.0 0.0"/>
   </joint>
   <link name="left_wrist_pitch_link">
      <inertial>
         <origin xyz="0.0229999 -0.00111685 -0.00111658" rpy="1.636448704066341 -0.7821401091177318 1.571080137027126"/>
         <mass value="0.48405"/>
         <inertia ixx="0.000430353" iyy="0.000429873" izz="0.000164648" ixy="0" ixz="0" iyz="0"/>
      </inertial>
      <visual name="left_wrist_pitch_link">
         <origin xyz="0.02300019707036519 -0.0005173613094355222 -0.000518381947122207" rpy="-1.6008824834192854 -0.8108809357715906 -1.5282434388651223"/>
         <geometry>
            <mesh filename="converted_left_wrist_pitch_link.stl"/>
         </geometry>
         <material name="white"/>
      </visual>
      <visual name="left_wrist_pitch_link">
         <origin xyz="0.02300019707036519 -0.0005173613094355222 -0.000518381947122207" rpy="-1.6008824834192854 -0.8108809357715906 -1.5282434388651223"/>
         <geometry>
            <mesh filename="converted_left_wrist_pitch_link.stl"/>
         </geometry>
         <material name="white"/>
      </visual>
   </link>
   <link name="left_wrist_pitch_joint_jointbody">
      <inertial>
         <origin xyz="0.0 0.0 0.0" rpy="0.0 0.0 0.0"/>
         <mass value="0.001"/>
         <inertia ixx="1e-09" iyy="1e-09" izz="1e-09" ixy="0" ixz="0" iyz="0"/>
      </inertial>
   </link>
   <joint type="revolute" name="left_wrist_pitch_joint">
      <parent link="left_wrist_roll_link"/>
      <child link="left_wrist_pitch_joint_jointbody"/>
      <origin xyz="0.038 0.0 0.0" rpy="0.0 0.0 0.0"/>
      <axis xyz="0.0 1.0 0.0"/>
      <limit lower="-1.61443" upper="1.61443" effort="100" velocity="100"/>
   </joint>
   <joint type="fixed" name="left_wrist_pitch_joint_offset">
      <parent link="left_wrist_pitch_joint_jointbody"/>
      <child link="left_wrist_pitch_link"/>
      <origin xyz="-0.0 -0.0 -0.0" rpy="0.0 0.0 0.0"/>
   </joint>
   <link name="left_wrist_yaw_link">
      <inertial>
         <origin xyz="0.0708244 0.000191745 0.00161742" rpy="1.5629559016855314 -0.04116225030520981 1.4953231156336735"/>
         <mass value="0.254576"/>
         <inertia ixx="0.000646113" iyy="0.000559993" izz="0.000147566" ixy="0" ixz="0" iyz="0"/>
      </inertial>
      <visual name="left_wrist_yaw_link">
         <origin xyz="0.020643364729886877 0.0009027484895771055 2.863405704168882e-06" rpy="-0.038940958230515355 0.001778029011771709 1.6733310348097952"/>
         <geometry>
            <mesh filename="converted_left_wrist_yaw_link.stl"/>
         </geometry>
         <material name="white"/>
      </visual>
      <visual name="left_wrist_yaw_link">
         <origin xyz="0.020643364729886877 0.0009027484895771055 2.863405704168882e-06" rpy="-0.038940958230515355 0.001778029011771709 1.6733310348097952"/>
         <geometry>
            <mesh filename="converted_left_wrist_yaw_link.stl"/>
         </geometry>
         <material name="white"/>
      </visual>
      <visual name="left_rubber_hand">
         <origin xyz="0.10613010179746868 -0.003684766726099308 0.00309993820831831" rpy="1.6045589098827842 -0.042669129959169716 1.3062625559495715"/>
         <geometry>
            <mesh filename="converted_left_rubber_hand.stl"/>
         </geometry>
         <material name="white"/>
      </visual>
   </link>
   <link name="left_wrist_yaw_joint_jointbody">
      <inertial>
         <origin xyz="0.0 0.0 0.0" rpy="0.0 0.0 0.0"/>
         <mass value="0.001"/>
         <inertia ixx="1e-09" iyy="1e-09" izz="1e-09" ixy="0" ixz="0" iyz="0"/>
      </inertial>
   </link>
   <joint type="revolute" name="left_wrist_yaw_joint">
      <parent link="left_wrist_pitch_link"/>
      <child link="left_wrist_yaw_joint_jointbody"/>
      <origin xyz="0.046 0.0 0.0" rpy="0.0 0.0 0.0"/>
      <axis xyz="0.0 0.0 1.0"/>
      <limit lower="-1.61443" upper="1.61443" effort="100" velocity="100"/>
   </joint>
   <joint type="fixed" name="left_wrist_yaw_joint_offset">
      <parent link="left_wrist_yaw_joint_jointbody"/>
      <child link="left_wrist_yaw_link"/>
      <origin xyz="-0.0 -0.0 -0.0" rpy="0.0 0.0 0.0"/>
   </joint>
   <link name="right_shoulder_pitch_link">
      <inertial>
         <origin xyz="0.0 -0.035892 -0.011628" rpy="-0.4983488351736898 0.46079162371774673 1.409519751258105"/>
         <mass value="0.718"/>
         <inertia ixx="0.000465864" iyy="0.000432842" izz="0.000406394" ixy="0" ixz="0" iyz="0"/>
      </inertial>
      <visual name="right_shoulder_pitch_link">
         <origin xyz="-2.4137104255368755e-05 -0.0345432594895927 -0.008909147962374762" rpy="0.029489658745679548 0.5899063567170857 1.638187772345466"/>
         <geometry>
            <mesh filename="converted_right_shoulder_pitch_link.stl"/>
         </geometry>
         <material name="white"/>
      </visual>
   </link>
   <link name="right_shoulder_pitch_joint_jointbody">
      <inertial>
         <origin xyz="0.0 0.0 0.0" rpy="0.0 0.0 0.0"/>
         <mass value="0.001"/>
         <inertia ixx="1e-09" iyy="1e-09" izz="1e-09" ixy="0" ixz="0" iyz="0"/>
      </inertial>
   </link>
   <joint type="revolute" name="right_shoulder_pitch_joint">
      <parent link="torso_link"/>
      <child link="right_shoulder_pitch_joint_jointbody"/>
      <origin xyz="0.0039563 -0.10021 0.23778" rpy="-0.2793090626390551 5.4948898537077184e-05 0.00019158997789023302"/>
      <axis xyz="0.0 1.0 0.0"/>
      <limit lower="-3.0892" upper="2.6704" effort="100" velocity="100"/>
   </joint>
   <joint type="fixed" name="right_shoulder_pitch_joint_offset">
      <parent link="right_shoulder_pitch_joint_jointbody"/>
      <child link="right_shoulder_pitch_link"/>
      <origin xyz="-0.0 -0.0 -0.0" rpy="0.0 0.0 0.0"/>
   </joint>
   <link name="right_shoulder_roll_link">
      <inertial>
         <origin xyz="-0.000227 -0.00727 -0.063243" rpy="-0.03765901158544349 -0.018004551792828227 1.5550832287919003"/>
         <mass value="0.643"/>
         <inertia ixx="0.000691311" iyy="0.000618011" izz="0.000388977" ixy="0" ixz="0" iyz="0"/>
      </inertial>
      <visual name="right_shoulder_roll_link">
         <origin xyz="3.0647723212395196e-05 -0.007746894558775755 -0.03750597545142516" rpy="0.0034383267276915097 0.07940700891787733 1.5713375585975289"/>
         <geometry>
            <mesh filename="converted_right_shoulder_roll_link.stl"/>
         </geometry>
         <material name="white"/>
      </visual>
   </link>
   <link name="right_shoulder_roll_joint_jointbody">
      <inertial>
         <origin xyz="0.0 0.0 0.0" rpy="0.0 0.0 0.0"/>
         <mass value="0.001"/>
         <inertia ixx="1e-09" iyy="1e-09" izz="1e-09" ixy="0" ixz="0" iyz="0"/>
      </inertial>
   </link>
   <joint type="revolute" name="right_shoulder_roll_joint">
      <parent link="right_shoulder_pitch_link"/>
      <child link="right_shoulder_roll_joint_jointbody"/>
      <origin xyz="0.0 -0.038 -0.013831" rpy="0.2792505189613739 0.0 0.0"/>
      <axis xyz="1.0 0.0 0.0"/>
      <limit lower="-2.2515" upper="1.5882" effort="100" velocity="100"/>
   </joint>
   <joint type="fixed" name="right_shoulder_roll_joint_offset">
      <parent link="right_shoulder_roll_joint_jointbody"/>
      <child link="right_shoulder_roll_link"/>
      <origin xyz="-0.0 -0.0 -0.0" rpy="0.0 0.0 0.0"/>
   </joint>
   <link name="right_shoulder_yaw_link">
      <inertial>
         <origin xyz="0.010773 0.002949 -0.072009" rpy="-0.23404913962827079 -0.03511332089790531 1.6172897925194172"/>
         <mass value="0.734"/>
         <inertia ixx="0.00106187" iyy="0.00103217" izz="0.000400661" ixy="0" ixz="0" iyz="0"/>
      </inertial>
      <visual name="right_shoulder_yaw_link">
         <origin xyz="0.00804956885105232 0.00420282487216018 -0.04821007683406935" rpy="-0.2379258414692521 -0.131909096933281 1.471453582750537"/>
         <geometry>
            <mesh filename="converted_right_shoulder_yaw_link.stl"/>
         </geometry>
         <material name="white"/>
      </visual>
      <visual name="right_shoulder_yaw_link">
         <origin xyz="0.00804956885105232 0.00420282487216018 -0.04821007683406935" rpy="-0.2379258414692521 -0.131909096933281 1.471453582750537"/>
         <geometry>
            <mesh filename="converted_right_shoulder_yaw_link.stl"/>
         </geometry>
         <material name="white"/>
      </visual>
   </link>
   <link name="right_shoulder_yaw_joint_jointbody">
      <inertial>
         <origin xyz="0.0 0.0 0.0" rpy="0.0 0.0 0.0"/>
         <mass value="0.001"/>
         <inertia ixx="1e-09" iyy="1e-09" izz="1e-09" ixy="0" ixz="0" iyz="0"/>
      </inertial>
   </link>
   <joint type="revolute" name="right_shoulder_yaw_joint">
      <parent link="right_shoulder_roll_link"/>
      <child link="right_shoulder_yaw_joint_jointbody"/>
      <origin xyz="0.0 -0.00624 -0.1032" rpy="0.0 0.0 0.0"/>
      <axis xyz="0.0 0.0 1.0"/>
      <limit lower="-2.618" upper="2.618" effort="100" velocity="100"/>
   </joint>
   <joint type="fixed" name="right_shoulder_yaw_joint_offset">
      <parent link="right_shoulder_yaw_joint_jointbody"/>
      <child link="right_shoulder_yaw_link"/>
      <origin xyz="-0.0 -0.0 -0.0" rpy="0.0 0.0 0.0"/>
   </joint>
   <link name="right_elbow_link">
      <inertial>
         <origin xyz="0.064956 -0.004454 -0.010062" rpy="1.683018815973072 0.07256707188746425 1.9794710790836403"/>
         <mass value="0.6"/>
         <inertia ixx="0.000443035" iyy="0.000421612" izz="0.000259353" ixy="0" ixz="0" iyz="0"/>
      </inertial>
      <visual name="right_elbow_link">
         <origin xyz="0.05357441187591211 -0.008582284246788056 -0.008536567848057683" rpy="1.684727046357678 0.05830849866102805 1.9048205303534707"/>
         <geometry>
            <mesh filename="converted_right_elbow_link.stl"/>
         </geometry>
         <material name="white"/>
      </visual>
      <visual name="right_elbow_link">
         <origin xyz="0.05357441187591211 -0.008582284246788056 -0.008536567848057683" rpy="1.684727046357678 0.05830849866102805 1.9048205303534707"/>
         <geometry>
            <mesh filename="converted_right_elbow_link.stl"/>
         </geometry>
         <material name="white"/>
      </visual>
   </link>
   <link name="right_elbow_joint_jointbody">
      <inertial>
         <origin xyz="0.0 0.0 0.0" rpy="0.0 0.0 0.0"/>
         <mass value="0.001"/>
         <inertia ixx="1e-09" iyy="1e-09" izz="1e-09" ixy="0" ixz="0" iyz="0"/>
      </inertial>
   </link>
   <joint type="revolute" name="right_elbow_joint">
      <parent link="right_shoulder_yaw_link"/>
      <child link="right_elbow_joint_jointbody"/>
      <origin xyz="0.015783 0.0 -0.080518" rpy="0.0 0.0 0.0"/>
      <axis xyz="0.0 1.0 0.0"/>
      <limit lower="-1.0472" upper="2.0944" effort="100" velocity="100"/>
   </joint>
   <joint type="fixed" name="right_elbow_joint_offset">
      <parent link="right_elbow_joint_jointbody"/>
      <child link="right_elbow_link"/>
      <origin xyz="-0.0 -0.0 -0.0" rpy="0.0 0.0 0.0"/>
   </joint>
   <link name="right_wrist_roll_link">
      <inertial>
         <origin xyz="0.0171394 -0.000537591 4.8864e-07" rpy="1.595889913691611 -1.5697814832562638 0.30387098421845304"/>
         <mass value="0.085445"/>
         <inertia ixx="5.48211e-05" iyy="4.96646e-05" izz="3.57798e-05" ixy="0" ixz="0" iyz="0"/>
      </inertial>
      <visual name="right_wrist_roll_link">
         <origin xyz="0.018657941307464523 -5.957828778852661e-06 -4.83245646150392e-07" rpy="1.5707963267958835 -1.5706553356919561 0.0325626474150873"/>
         <geometry>
            <mesh filename="converted_right_wrist_roll_link.stl"/>
         </geometry>
         <material name="white"/>
      </visual>
      <visual name="right_wrist_roll_link">
         <origin xyz="0.018657941307464523 -5.957828778852661e-06 -4.83245646150392e-07" rpy="1.5707963267958835 -1.5706553356919561 0.0325626474150873"/>
         <geometry>
            <mesh filename="converted_right_wrist_roll_link.stl"/>
         </geometry>
         <material name="white"/>
      </visual>
   </link>
   <link name="right_wrist_roll_joint_jointbody">
      <inertial>
         <origin xyz="0.0 0.0 0.0" rpy="0.0 0.0 0.0"/>
         <mass value="0.001"/>
         <inertia ixx="1e-09" iyy="1e-09" izz="1e-09" ixy="0" ixz="0" iyz="0"/>
      </inertial>
   </link>
   <joint type="revolute" name="right_wrist_roll_joint">
      <parent link="right_elbow_link"/>
      <child link="right_wrist_roll_joint_jointbody"/>
      <origin xyz="0.1 -0.00188791 -0.01" rpy="0.0 0.0 0.0"/>
      <axis xyz="1.0 0.0 0.0"/>
      <limit lower="-1.97222" upper="1.97222" effort="100" velocity="100"/>
   </joint>
   <joint type="fixed" name="right_wrist_roll_joint_offset">
      <parent link="right_wrist_roll_joint_jointbody"/>
      <child link="right_wrist_roll_link"/>
      <origin xyz="-0.0 -0.0 -0.0" rpy="0.0 0.0 0.0"/>
   </joint>
   <link name="right_wrist_pitch_link">
      <inertial>
         <origin xyz="0.0229999 0.00111685 -0.00111658" rpy="1.6364487040663414 0.7821401091177322 1.5705125165626677"/>
         <mass value="0.48405"/>
         <inertia ixx="0.000430353" iyy="0.000429873" izz="0.000164648" ixy="0" ixz="0" iyz="0"/>
      </inertial>
      <visual name="right_wrist_pitch_link">
         <origin xyz="0.022999880367268993 0.0005172208304745039 -0.0005182067564729859" rpy="1.600189111072446 -0.7879128559570059 1.5292083470467561"/>
         <geometry>
            <mesh filename="converted_right_wrist_pitch_link.stl"/>
         </geometry>
         <material name="white"/>
      </visual>
      <visual name="right_wrist_pitch_link">
         <origin xyz="0.022999880367268993 0.0005172208304745039 -0.0005182067564729859" rpy="1.600189111072446 -0.7879128559570059 1.5292083470467561"/>
         <geometry>
            <mesh filename="converted_right_wrist_pitch_link.stl"/>
         </geometry>
         <material name="white"/>
      </visual>
   </link>
   <link name="right_wrist_pitch_joint_jointbody">
      <inertial>
         <origin xyz="0.0 0.0 0.0" rpy="0.0 0.0 0.0"/>
         <mass value="0.001"/>
         <inertia ixx="1e-09" iyy="1e-09" izz="1e-09" ixy="0" ixz="0" iyz="0"/>
      </inertial>
   </link>
   <joint type="revolute" name="right_wrist_pitch_joint">
      <parent link="right_wrist_roll_link"/>
      <child link="right_wrist_pitch_joint_jointbody"/>
      <origin xyz="0.038 0.0 0.0" rpy="0.0 0.0 0.0"/>
      <axis xyz="0.0 1.0 0.0"/>
      <limit lower="-1.61443" upper="1.61443" effort="100" velocity="100"/>
   </joint>
   <joint type="fixed" name="right_wrist_pitch_joint_offset">
      <parent link="right_wrist_pitch_joint_jointbody"/>
      <child link="right_wrist_pitch_link"/>
      <origin xyz="-0.0 -0.0 -0.0" rpy="0.0 0.0 0.0"/>
   </joint>
   <link name="right_wrist_yaw_link">
      <inertial>
         <origin xyz="0.0708244 -0.000191745 0.00161742" rpy="1.5629559016855314 0.04116225030520981 1.6462695379561196"/>
         <mass value="0.254576"/>
         <inertia ixx="0.000646113" iyy="0.000559993" izz="0.000147566" ixy="0" ixz="0" iyz="0"/>
      </inertial>
      <visual name="right_wrist_yaw_link">
         <origin xyz="0.020642202624980278 -0.0009024964060801943 4.787797910695187e-06" rpy="-0.03919436741674498 -0.0017808560332783774 1.4683311967879622"/>
         <geometry>
            <mesh filename="converted_right_wrist_yaw_link.stl"/>
         </geometry>
         <material name="white"/>
      </visual>
      <visual name="right_wrist_yaw_link">
         <origin xyz="0.020642202624980278 -0.0009024964060801943 4.787797910695187e-06" rpy="-0.03919436741674498 -0.0017808560332783774 1.4683311967879622"/>
         <geometry>
            <mesh filename="converted_right_wrist_yaw_link.stl"/>
         </geometry>
         <material name="white"/>
      </visual>
      <visual name="right_rubber_hand">
         <origin xyz="0.10612782253823516 0.003684169488582977 0.0030997910442408447" rpy="1.604562060529126 0.04264633788925609 1.8353191542133847"/>
         <geometry>
            <mesh filename="converted_right_rubber_hand.stl"/>
         </geometry>
         <material name="white"/>
      </visual>
   </link>
   <link name="right_wrist_yaw_joint_jointbody">
      <inertial>
         <origin xyz="0.0 0.0 0.0" rpy="0.0 0.0 0.0"/>
         <mass value="0.001"/>
         <inertia ixx="1e-09" iyy="1e-09" izz="1e-09" ixy="0" ixz="0" iyz="0"/>
      </inertial>
   </link>
   <joint type="revolute" name="right_wrist_yaw_joint">
      <parent link="right_wrist_pitch_link"/>
      <child link="right_wrist_yaw_joint_jointbody"/>
      <origin xyz="0.046 0.0 0.0" rpy="0.0 0.0 0.0"/>
      <axis xyz="0.0 0.0 1.0"/>
      <limit lower="-1.61443" upper="1.61443" effort="100" velocity="100"/>
   </joint>
   <joint type="fixed" name="right_wrist_yaw_joint_offset">
      <parent link="right_wrist_yaw_joint_jointbody"/>
      <child link="right_wrist_yaw_link"/>
      <origin xyz="-0.0 -0.0 -0.0" rpy="0.0 0.0 0.0"/>
   </joint>
   <material name="white">
      <color rgba="1 1 1 1"/>
   </material>
</robot>
